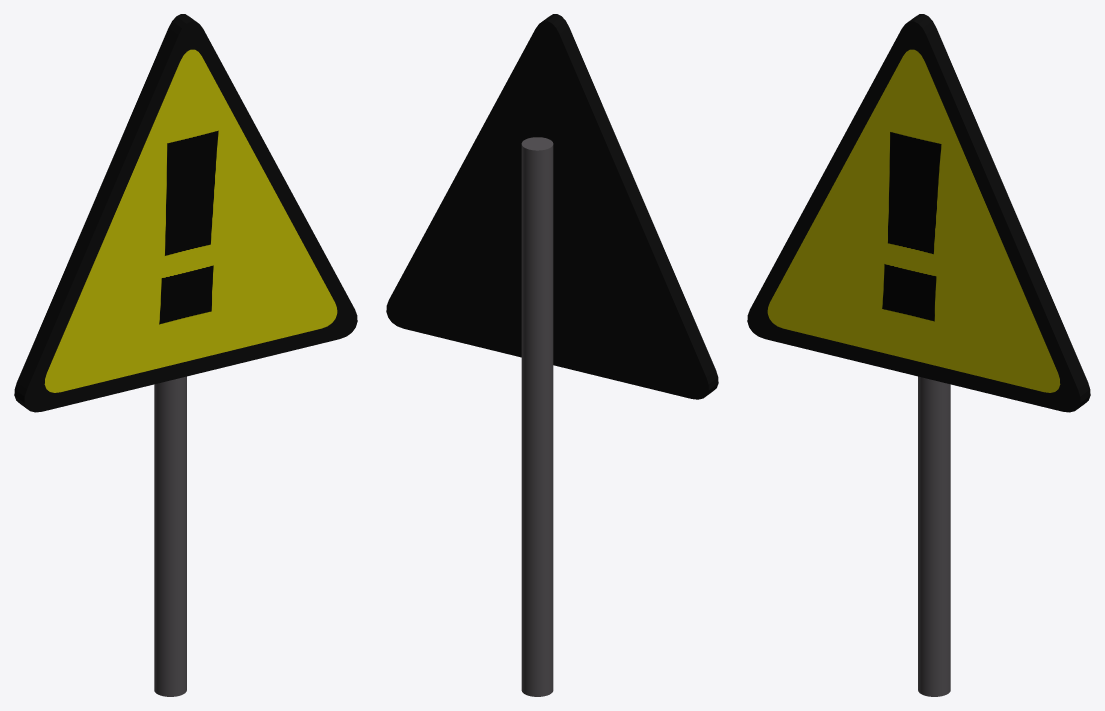
File: HazardSignExclamation.fbx
3 renders of one model, left to right at view 1: azimuth 30°, elevation 25°; view 2: azimuth 150°, elevation 25°; view 3: azimuth 330°, elevation 25°, orthographic. The views are drawn at different scales.
Parts seen in each view (by area): view 1: Cube, Cylinder; view 2: Cube, Cylinder; view 3: Cube, Cylinder.
Boxes of the visible parts, left/top/right/bottom form: Cube: left=14, top=14, right=357, bottom=412; Cylinder: left=154, top=376, right=186, bottom=696; Cube: left=386, top=14, right=718, bottom=399; Cylinder: left=521, top=137, right=553, bottom=696; Cube: left=747, top=14, right=1090, bottom=412; Cylinder: left=918, top=376, right=950, bottom=696.
Size of the model in its own units: 631 by 1238 by 94.16.
